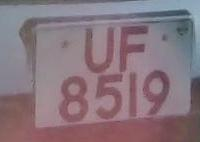1: (122, 69, 144, 121)
5: (91, 69, 128, 124)
8: (51, 70, 96, 127)
9: (138, 63, 173, 121)
F: (115, 21, 156, 75)
U: (77, 22, 125, 75)
